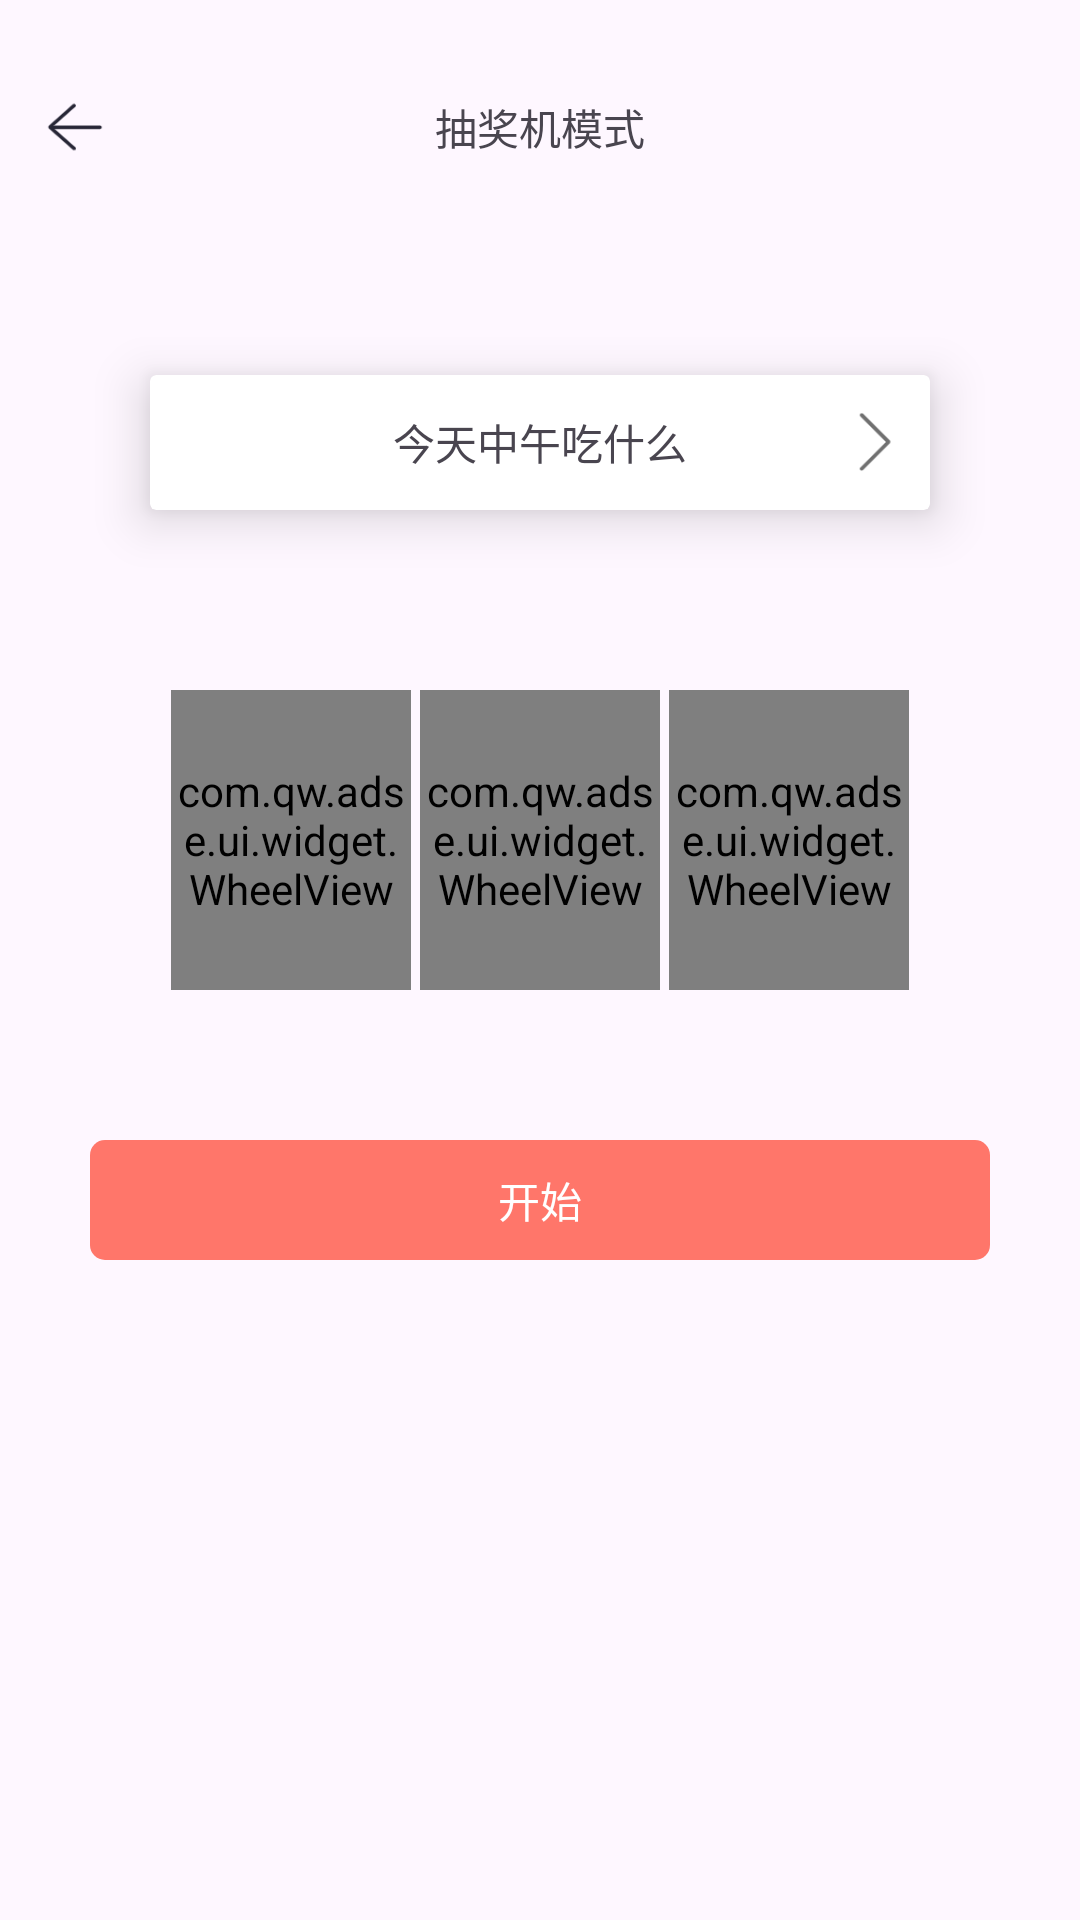

Named icons in this screenshot (1080px×1920px) and their bounding boxes, (x1, y1, x2, y2):
fanhui: (48, 103, 102, 151)
you: (859, 413, 891, 471)
